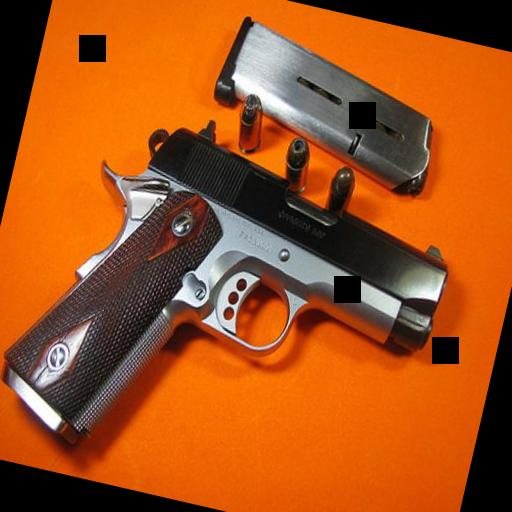Handgun: (0, 83, 470, 512)
